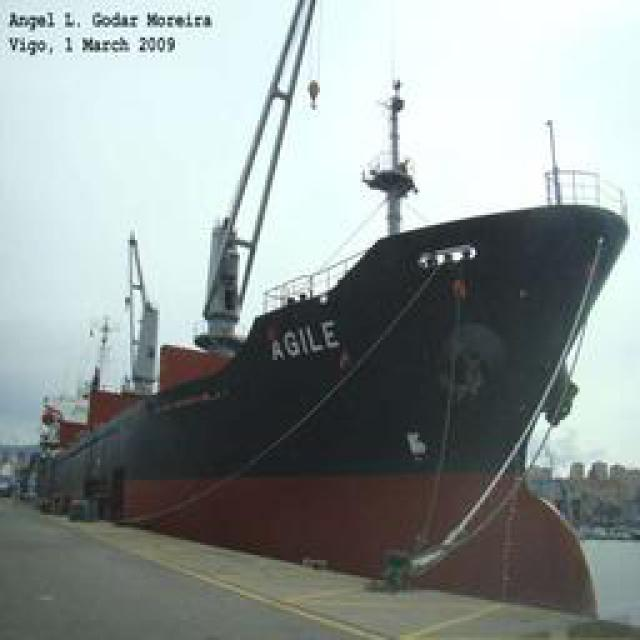Ship: (24, 89, 637, 602)
